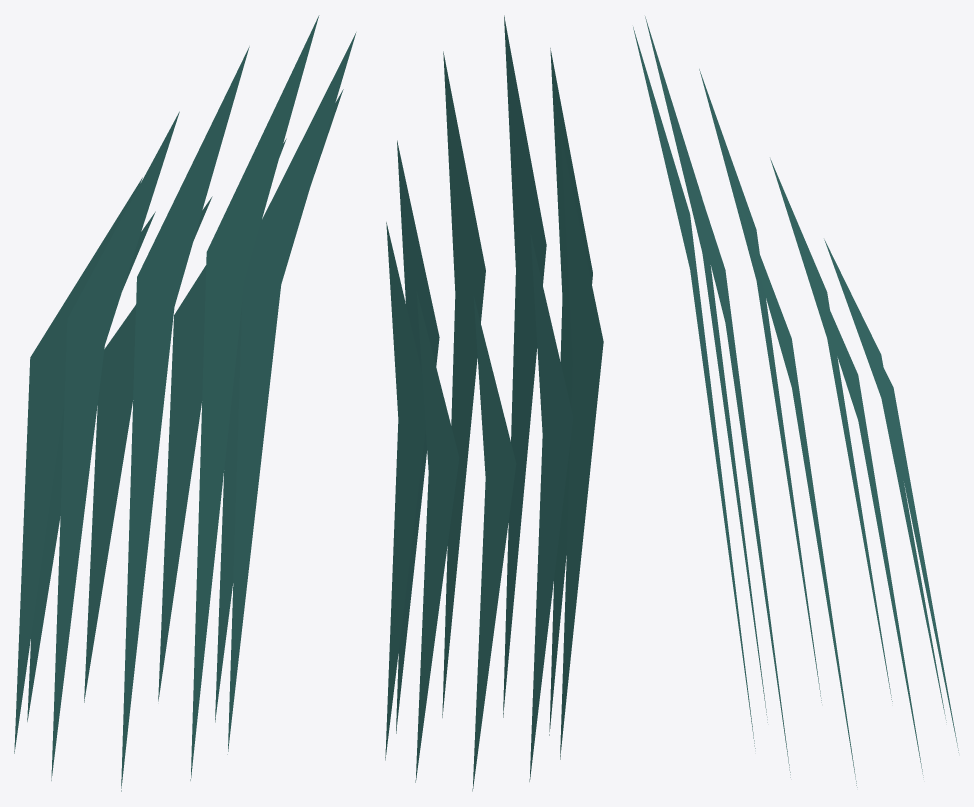
File: nature-kelp.lod0.glb
3 renders of one model, left to right at view 1: azimuth 30°, elevation 25°; view 2: azimuth 150°, elevation 25°; view 3: azimuth 270°, elevation 25°, orthographic. The views are drawn at different scales.
Visible parts, largest first — view 1: nature-kelp__fronds; view 2: nature-kelp__fronds; view 3: nature-kelp__fronds.
Boxes of the visible parts, <box> form: nature-kelp__fronds: <box>14,15,356,791</box>; nature-kelp__fronds: <box>385,15,603,791</box>; nature-kelp__fronds: <box>633,16,958,787</box>.
Bounding box in the file's own units: 0.7049 × 2.04 × 0.7924.
